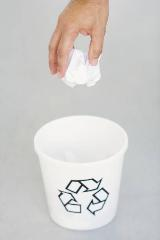paper: (60, 48, 100, 88)
